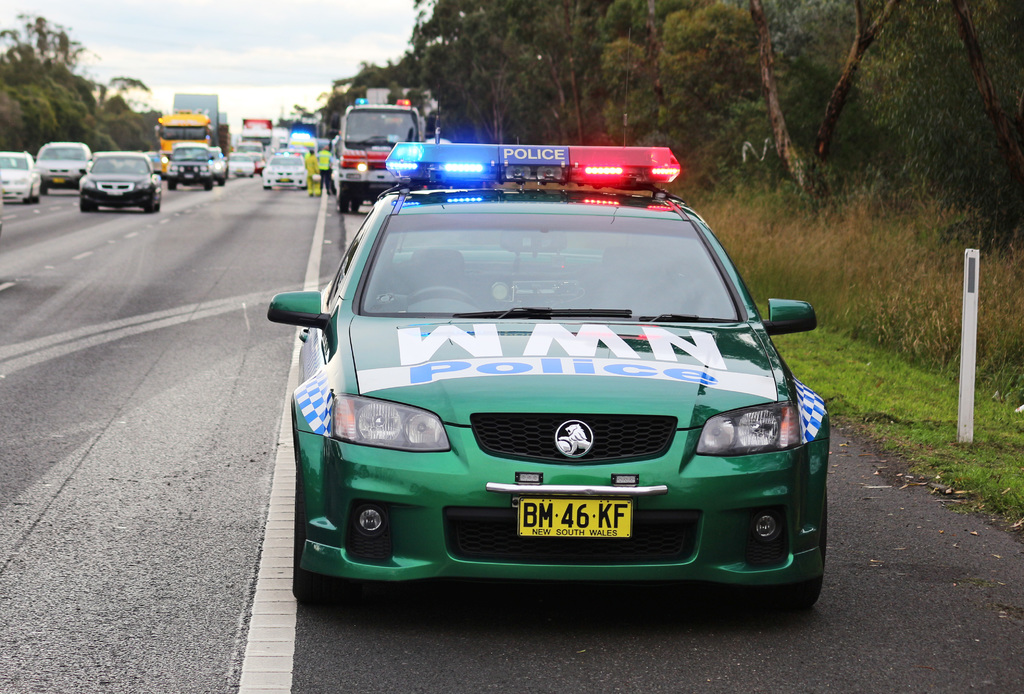Car: (268, 137, 830, 606), (83, 155, 159, 209), (38, 142, 95, 188), (0, 149, 44, 204), (161, 143, 218, 184), (265, 155, 307, 189), (222, 150, 257, 175)
